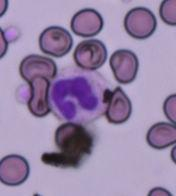N: (46, 66, 106, 124)
